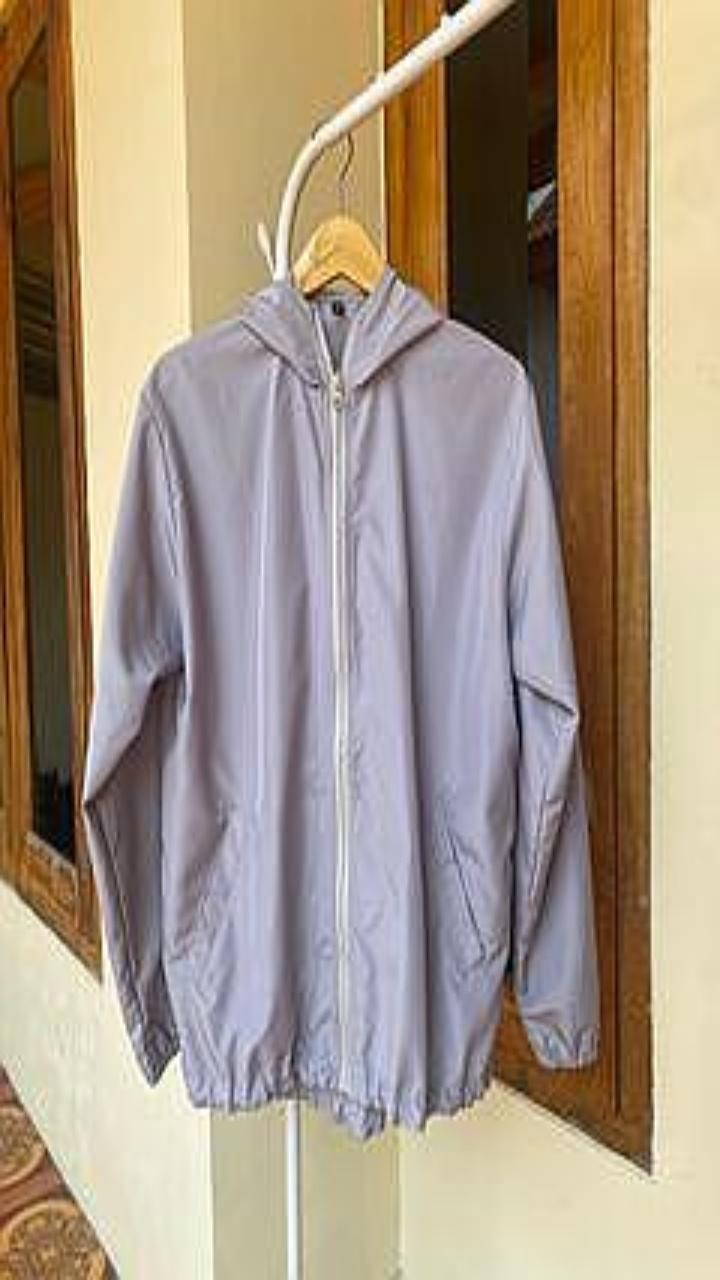Coat: (82, 265, 598, 1137)
